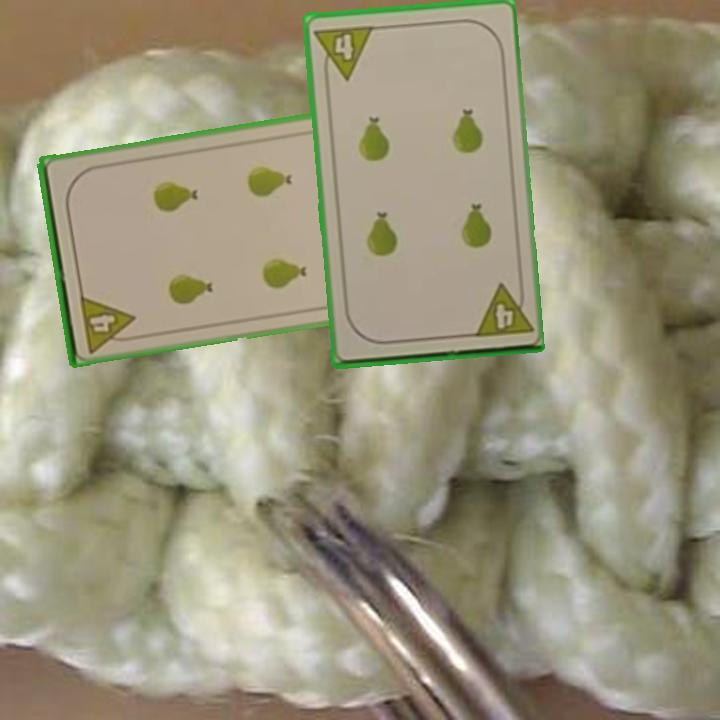4p: (76, 291, 140, 356), (311, 21, 376, 84), (469, 279, 534, 340)
